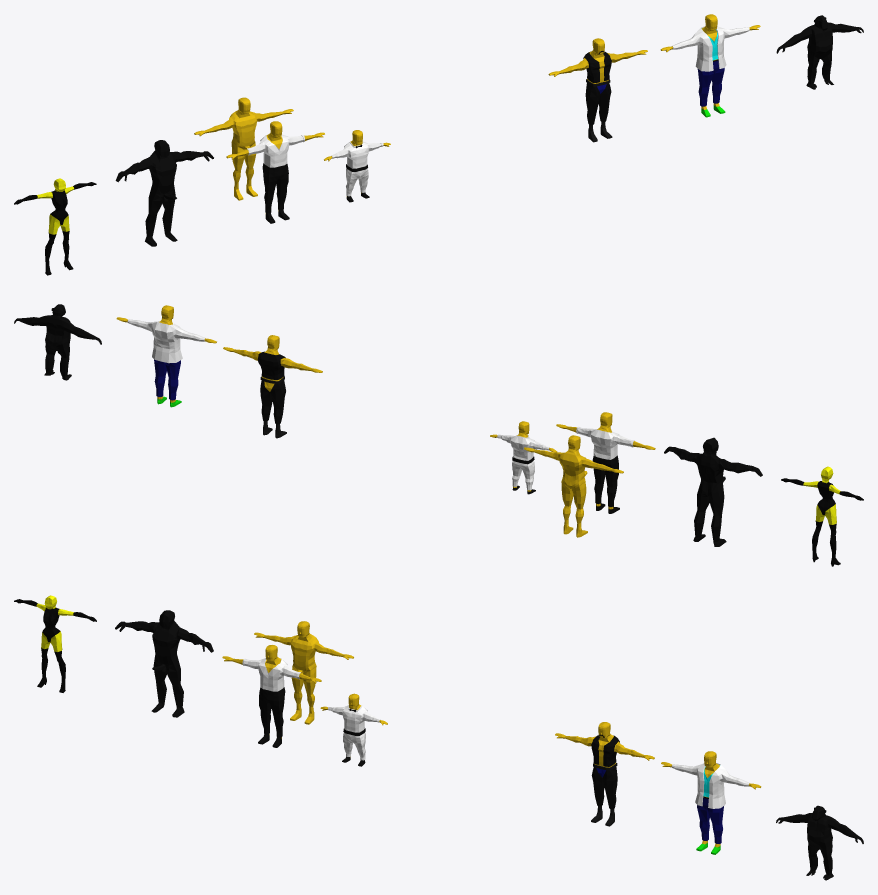
3 views of the same model, one above another, from view 1: azimuth 30°, elevation 25°; view 2: azimuth 150°, elevation 25°; view 3: azimuth 330°, elevation 25° (orthographic).
Parts seen in each view (by area): view 1: Reginaldo, Dealer, Rogerio, Bofia, Rogerio Nu, Macaco, Dom, Sr. Tono; view 2: Reginaldo, Dealer, Bofia, Rogerio, Rogerio Nu, Macaco, Dom, Sr. Tono; view 3: Reginaldo, Dealer, Rogerio, Bofia, Rogerio Nu, Macaco, Dom, Sr. Tono.
Boxes of the visible parts, <box> form: Reginaldo: <box>115,140,213,246</box>; Dealer: <box>660,14,760,117</box>; Rogerio: <box>226,121,324,223</box>; Bofia: <box>548,38,647,142</box>; Rogerio Nu: <box>194,97,293,200</box>; Macaco: <box>776,15,863,89</box>; Dom: <box>14,178,96,275</box>; Sr. Tono: <box>324,130,390,202</box>; Reginaldo: <box>664,437,762,546</box>; Dealer: <box>116,305,216,407</box>; Bofia: <box>223,335,322,438</box>; Rogerio: <box>556,412,655,513</box>; Rogerio Nu: <box>524,435,623,537</box>; Macaco: <box>14,304,101,380</box>; Dom: <box>781,466,863,566</box>; Sr. Tono: <box>490,421,557,494</box>; Reginaldo: <box>115,610,213,717</box>; Dealer: <box>661,751,761,854</box>; Rogerio: <box>222,645,321,747</box>; Bofia: <box>555,722,654,826</box>; Rogerio Nu: <box>254,621,353,724</box>; Macaco: <box>776,805,863,880</box>; Dom: <box>14,595,96,692</box>; Sr. Tono: <box>320,693,387,766</box>.
Size of the model in its own units: 15.55 by 1.8 by 1.48.
